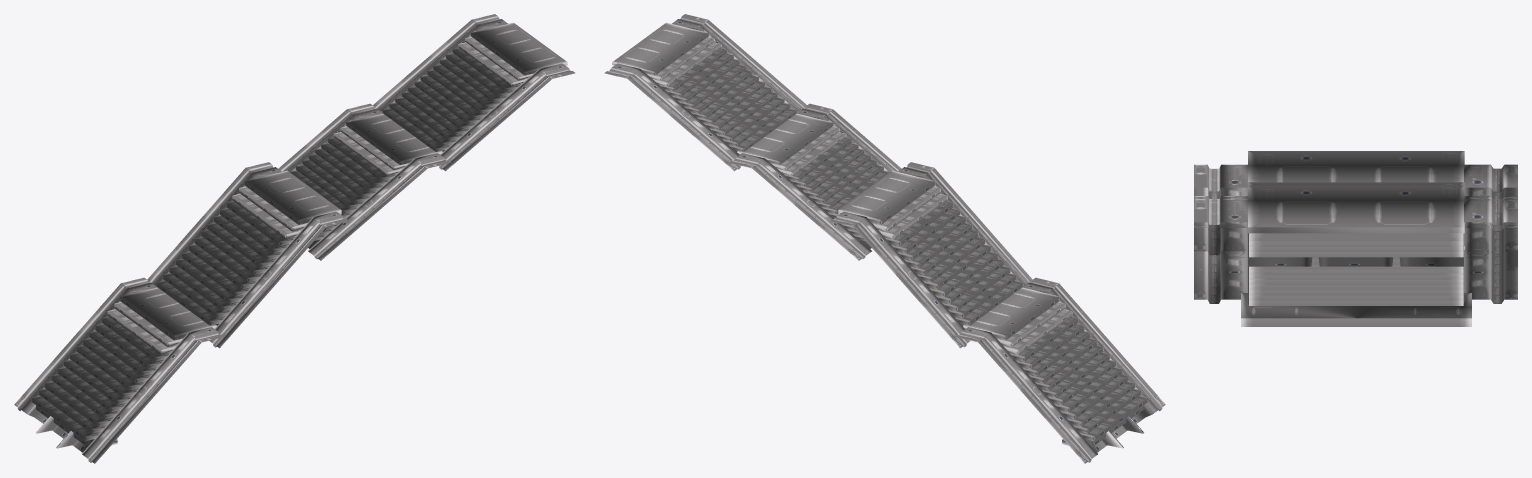
File: SM_BigShip_CorridorSteps.fbx
3 renders of one model, left to right at view 1: azimuth 30°, elevation 25°; view 2: azimuth 150°, elevation 25°; view 3: azimuth 270°, elevation 25°, orthographic. The views are drawn at different scales.
Parts seen in each view (by area): view 1: SM_BigShip_CorridorSteps_LOD0; view 2: SM_BigShip_CorridorSteps_LOD0; view 3: SM_BigShip_CorridorSteps_LOD0.
Boxes of the visible parts, left/top/right/bottom form: SM_BigShip_CorridorSteps_LOD0: left=14, top=14, right=575, bottom=463; SM_BigShip_CorridorSteps_LOD0: left=604, top=14, right=1165, bottom=463; SM_BigShip_CorridorSteps_LOD0: left=1194, top=151, right=1517, bottom=326.
Bounding box in the file's own units: 1856 × 997 × 526.
Materials: 1 (1 with a texture image).
